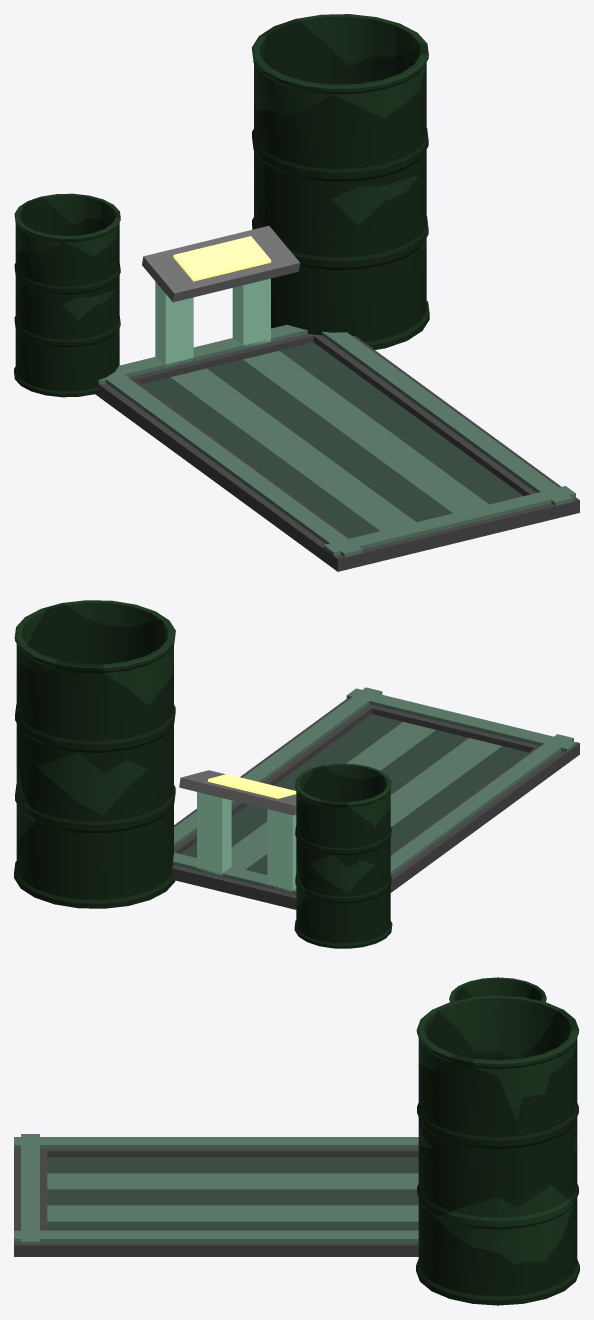
Rendered from Treadmill_Upgrade5.glb.
The picture shows the model from 3 angles, top to bottom: view 1: azimuth 30°, elevation 25°; view 2: azimuth 150°, elevation 25°; view 3: azimuth 270°, elevation 25°; orthographic projection. The views are drawn at different scales.
Parts seen in each view (by area): view 1: Barrel, Barrel copy, Cube_copy_copy_3, Cube_copy_copy_copy_2, Cube_copy_copy_2, Cube_copy_copy_4, Cube_copy_1, Cube_copy_copy_1, Cube_copy_copy_copy_1, Cube_copy, Cube_copy_copy_copy_copy_copy_copy_copy_1, Cube_copy_copy (+8 smaller); view 2: Barrel, Barrel copy, Cube_copy_copy_4, Cube_copy_copy_1, Cube_copy_1, Cube_copy, Cube_copy_copy_2, Cube_copy_copy_copy_2, Cube_copy_copy_copy_copy_1, Cube_copy_copy_copy_1, Cube_copy_copy_copy_copy_copy_copy_copy, Cube_copy_copy_3 (+8 smaller); view 3: Barrel, Cube_copy_copy_copy_2, Cube_copy_1, Cube_copy_copy_2, Cube_copy_copy_3, Cube_copy_copy_copy_1, Cube_copy_copy, Cube_copy_copy_1, Cube_copy, Cube_copy_copy_4, Cube_copy_copy_copy_copy_1, Cube (+2 smaller).
Boxes of the visible parts, box(x1,y1,x2,y2) form: Barrel: box(251, 14, 429, 349); Barrel copy: box(14, 193, 120, 397); Cube_copy_copy_3: box(207, 359, 452, 522); Cube_copy_copy_copy_2: box(243, 351, 488, 513); Cube_copy_copy_2: box(171, 368, 415, 530); Cube_copy_copy_4: box(279, 342, 523, 504); Cube_copy_1: box(141, 377, 379, 538); Cube_copy_copy_1: box(105, 373, 362, 557); Cube_copy_copy_copy_1: box(321, 331, 573, 506); Cube_copy: box(95, 377, 369, 571); Cube_copy_copy_copy_copy_copy_copy_copy_1: box(142, 225, 300, 302); Cube_copy_copy: box(313, 335, 579, 519); Barrel: box(14, 600, 175, 908); Barrel copy: box(294, 763, 392, 948); Cube_copy_copy_4: box(181, 714, 402, 857); Cube_copy_copy_1: box(390, 734, 573, 874); Cube_copy_1: box(390, 746, 528, 853); Cube_copy: box(390, 742, 579, 891); Cube_copy_copy_2: box(390, 738, 501, 826); Cube_copy_copy_copy_2: box(231, 722, 435, 869); Cube_copy_copy_copy_copy_1: box(346, 688, 576, 752); Cube_copy_copy_copy_1: box(174, 687, 382, 846); Cube_copy_copy_copy_copy_copy_copy_copy: box(197, 792, 231, 875); Cube_copy_copy_3: box(245, 730, 468, 874); Barrel: box(416, 995, 579, 1305); Cube_copy_copy_copy_2: box(47, 1205, 418, 1221); Cube_copy_1: box(47, 1157, 418, 1173); Cube_copy_copy_2: box(47, 1173, 418, 1189); Cube_copy_copy_3: box(47, 1189, 418, 1205); Cube_copy_copy_copy_1: box(14, 1230, 418, 1242); Cube_copy_copy: box(14, 1242, 418, 1256); Cube_copy_copy_1: box(14, 1137, 418, 1148); Cube_copy: box(14, 1148, 418, 1157); Cube_copy_copy_4: box(47, 1221, 418, 1230); Cube_copy_copy_copy_copy_1: box(21, 1134, 39, 1245); Cube: box(14, 1252, 418, 1256).
Size of the model in its own units: 7.19 by 4.58 by 9.72.
Materials: 20 (2 with a texture image).
